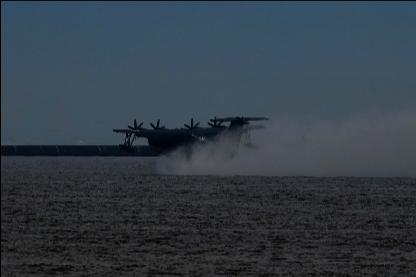Tu95: (112, 116, 270, 160)
